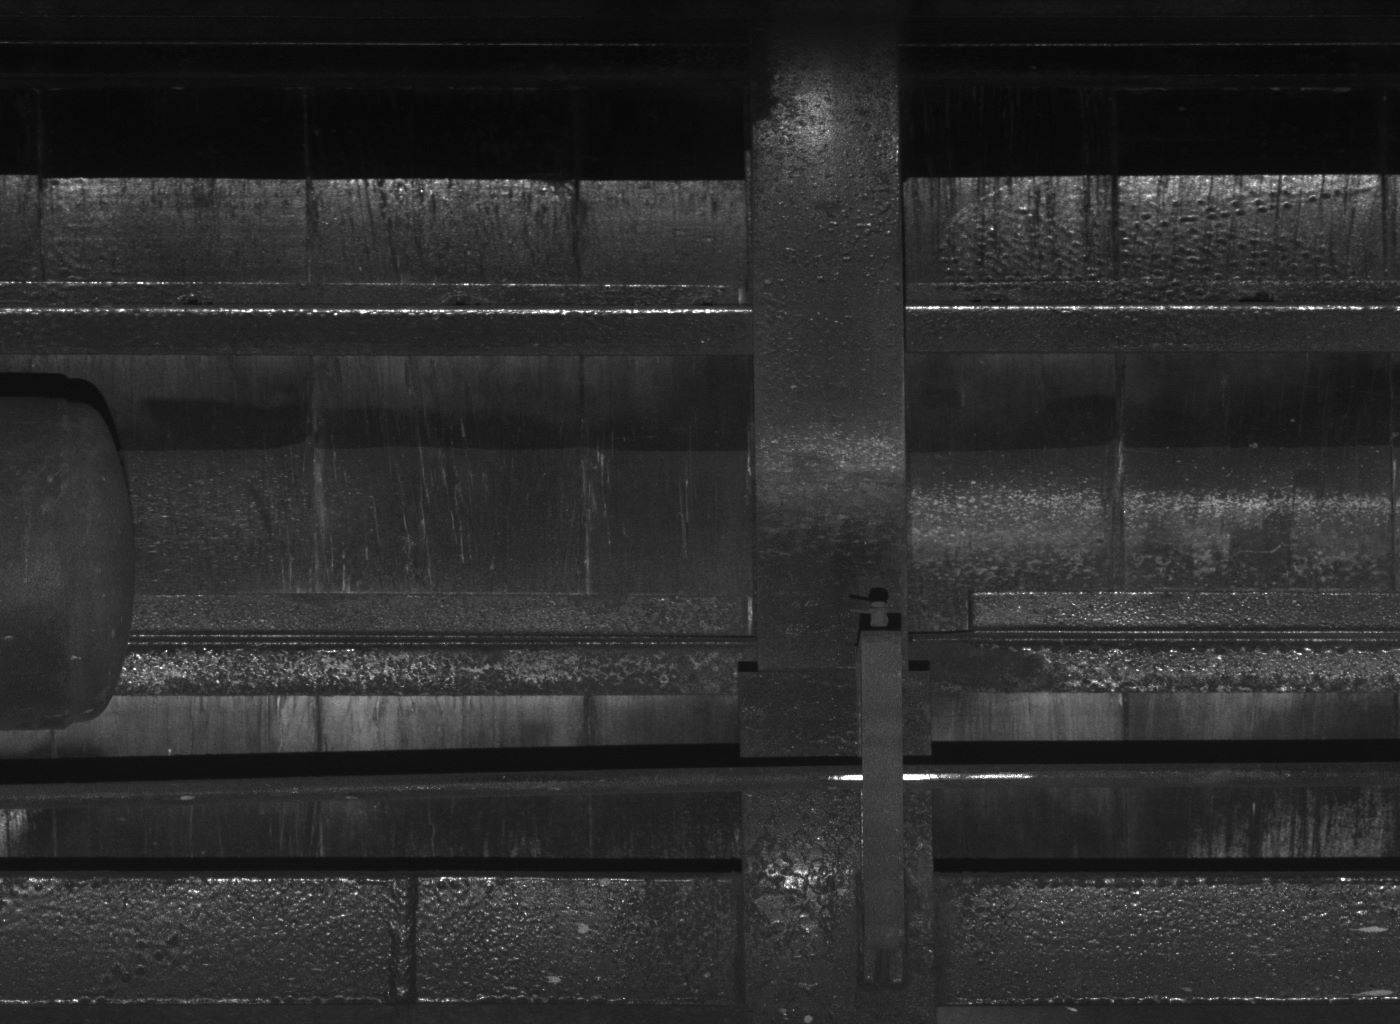normal: (849, 601, 907, 985)
